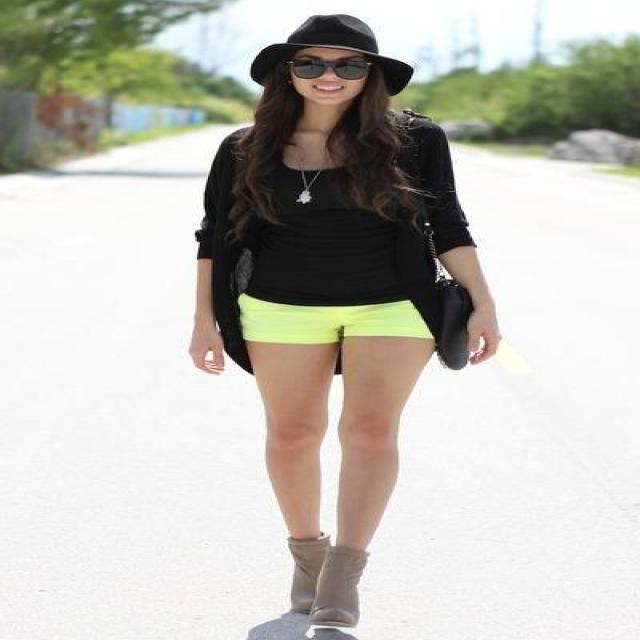bag: (402, 276, 474, 369)
hat: (251, 14, 413, 92)
jacket: (195, 126, 475, 373)
shirt: (237, 168, 435, 305)
shoe: (290, 536, 363, 639)
shorts: (238, 294, 432, 344)
sunglass: (291, 38, 378, 79)
